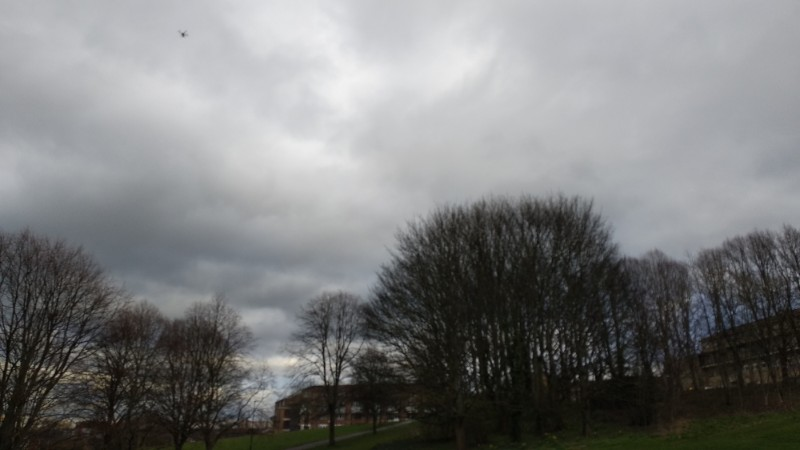drone: (178, 30, 189, 39)
